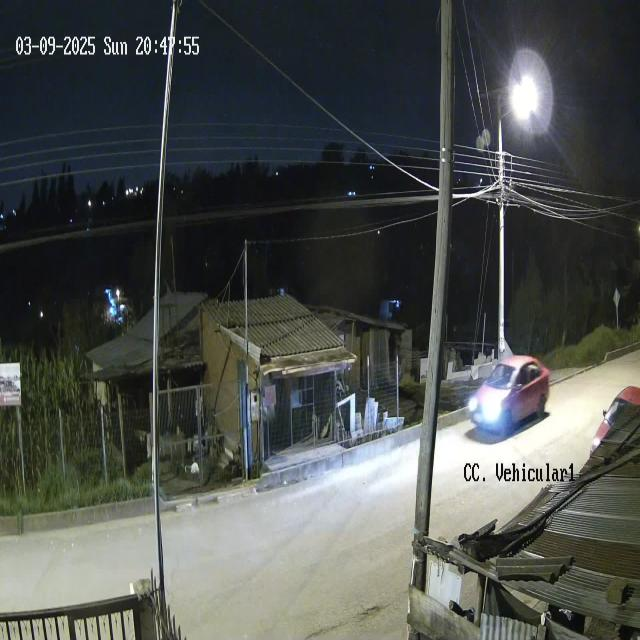SED: (467, 354, 551, 435)
